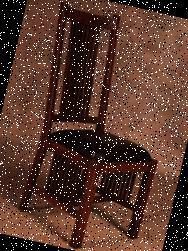Silla: (10, 3, 185, 250)
